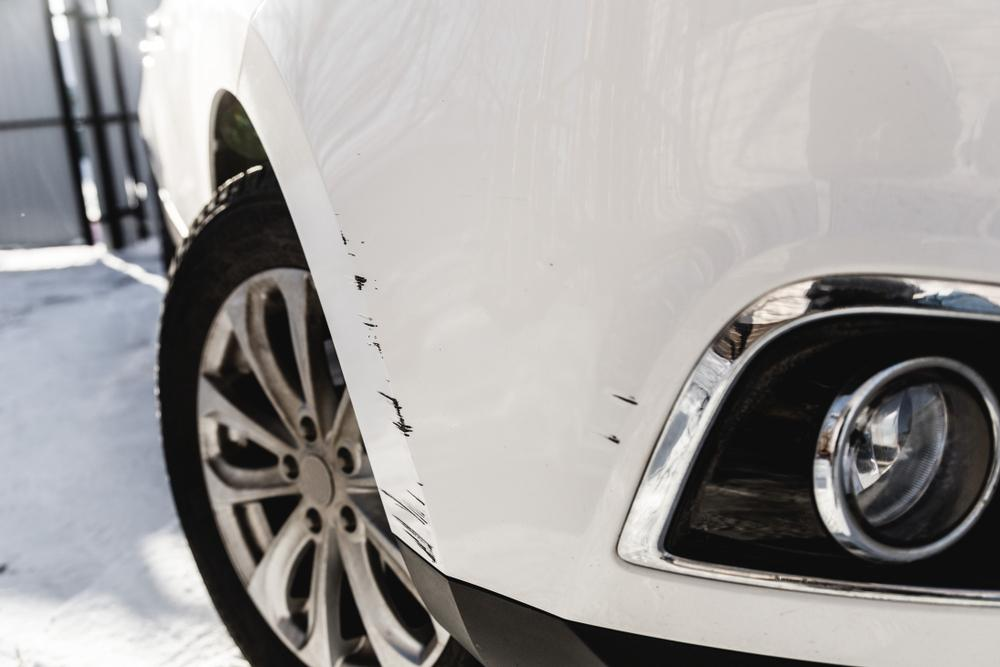scratch: (338, 230, 438, 562), (588, 383, 646, 454)
